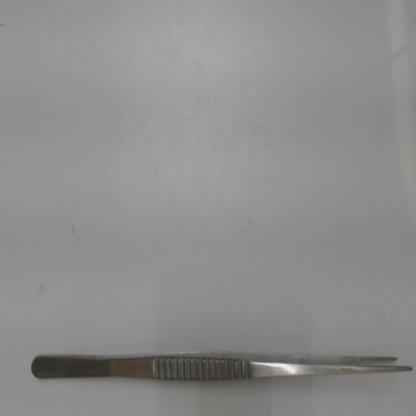DeBakey Dissector: (8, 339, 414, 399)
